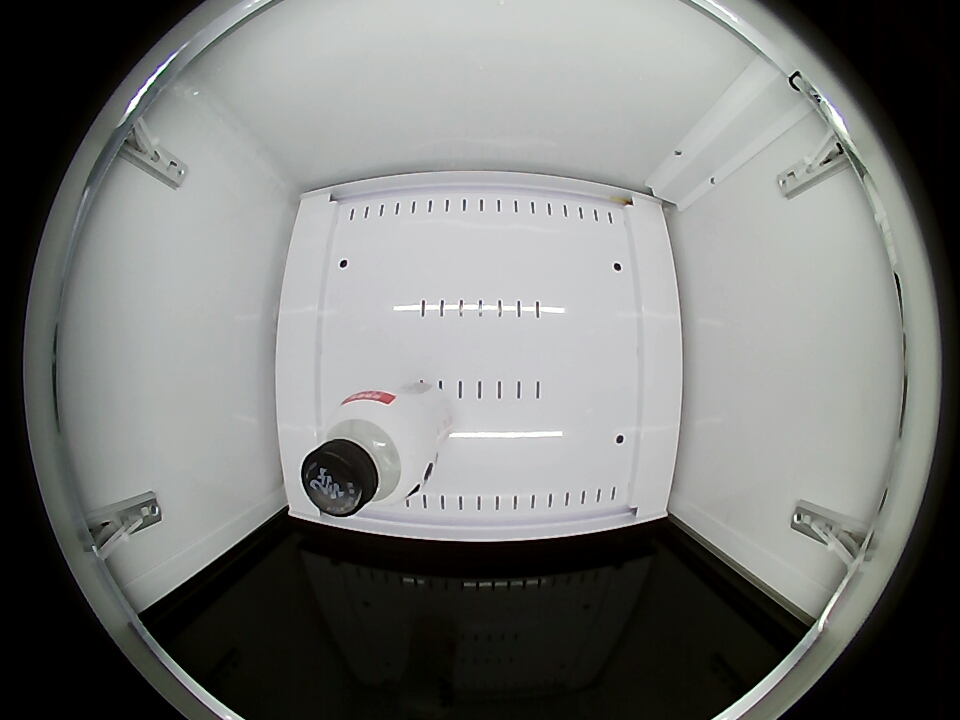yuanqishui: (301, 391, 434, 517)
